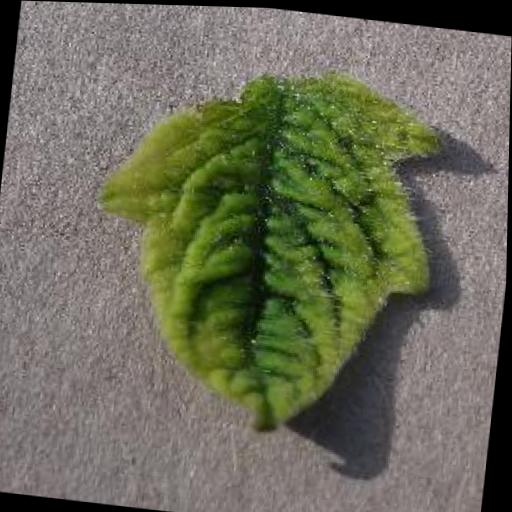Yellow Leaf Curl Virus: (86, 47, 458, 450)
